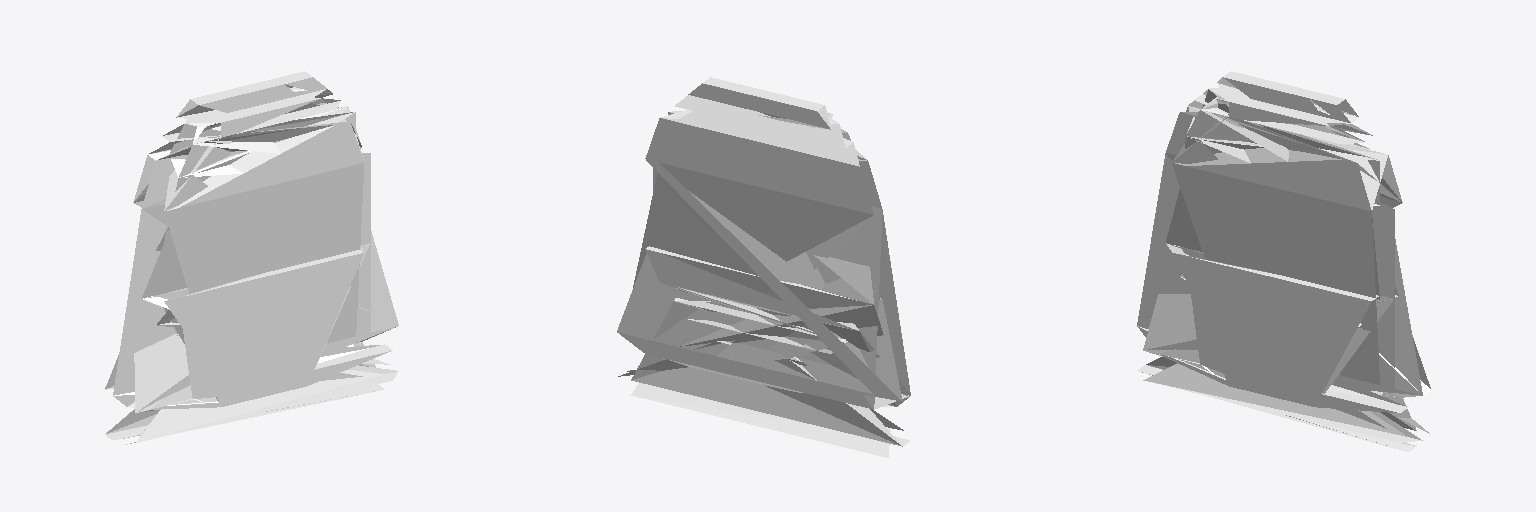
The model's file is flytrap_01.obj.
The picture shows the model from 3 angles: view 1: azimuth 30°, elevation 25°; view 2: azimuth 150°, elevation 25°; view 3: azimuth 330°, elevation 25°; orthographic projection.
Bounding box in the file's own units: 20 × 22 × 2.